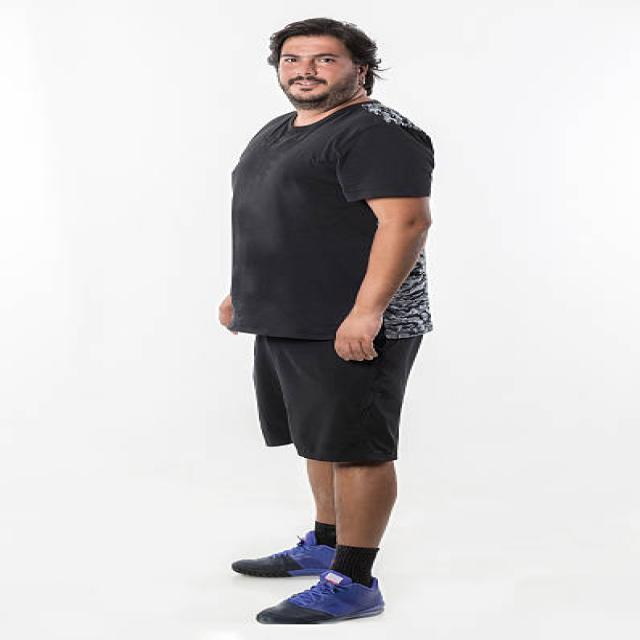Edited images: (200, 4, 477, 634)
